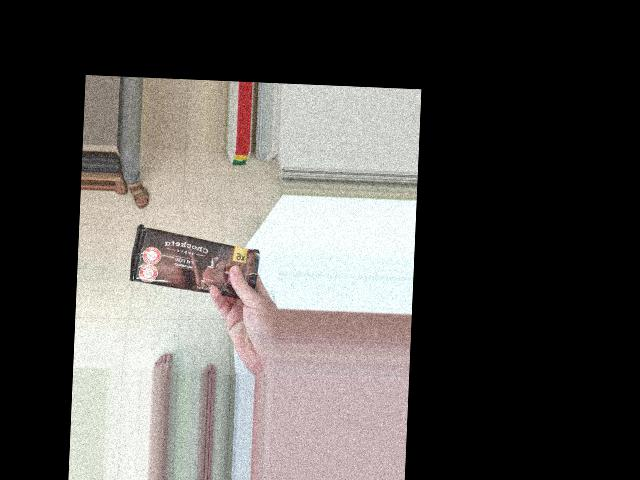chocolate: (129, 224, 264, 302)
